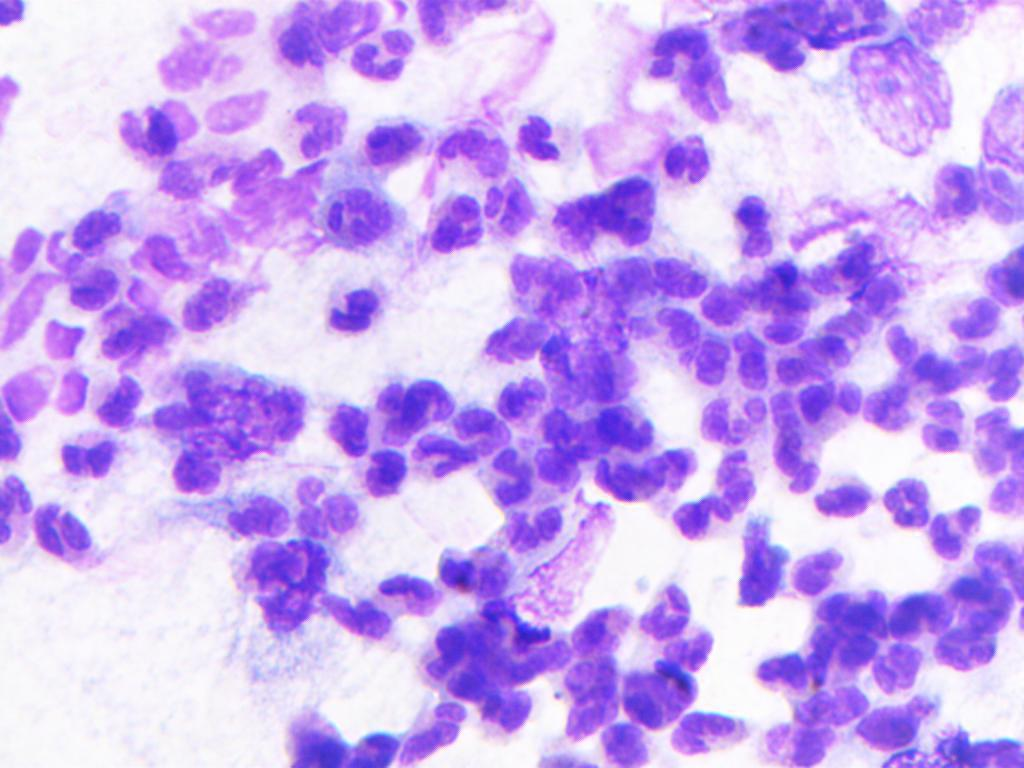artifact: (842, 33, 961, 160), (211, 152, 329, 258), (153, 8, 252, 99)
goblet_cell: (633, 22, 741, 133)
neutrophil: (152, 362, 308, 498), (414, 614, 552, 732), (864, 331, 1024, 426), (712, 0, 891, 76), (765, 378, 871, 493), (924, 566, 1016, 688), (653, 299, 770, 393), (233, 534, 330, 643), (1, 322, 99, 427), (536, 401, 652, 488), (804, 574, 886, 693), (952, 397, 1024, 532), (756, 686, 871, 768), (802, 234, 903, 327), (537, 322, 633, 419), (767, 306, 876, 391), (543, 172, 663, 249), (700, 258, 811, 336), (274, 700, 400, 768), (116, 214, 223, 294), (602, 241, 718, 314), (578, 443, 702, 509), (282, 0, 388, 74), (871, 717, 1024, 768), (406, 399, 500, 481), (105, 93, 203, 170), (382, 691, 480, 768), (162, 489, 286, 549), (423, 533, 520, 607), (0, 212, 54, 344), (366, 369, 449, 454), (335, 27, 439, 94), (172, 274, 278, 339), (903, 158, 989, 237), (427, 118, 517, 192), (318, 173, 400, 252), (409, 0, 529, 53), (492, 100, 579, 173), (96, 294, 170, 379), (730, 509, 787, 619), (616, 659, 704, 730), (193, 78, 281, 149), (141, 147, 220, 226), (64, 188, 148, 262), (283, 471, 369, 543), (27, 489, 99, 574), (478, 496, 572, 561), (501, 251, 587, 321), (558, 657, 622, 750), (468, 173, 548, 243), (371, 557, 452, 626), (628, 574, 702, 646), (327, 268, 395, 344), (802, 461, 880, 527), (701, 383, 772, 454), (475, 440, 546, 509), (933, 283, 1009, 347), (478, 311, 559, 371), (560, 598, 631, 666), (862, 637, 937, 699), (662, 489, 740, 547), (924, 496, 991, 563), (45, 426, 121, 483), (785, 529, 848, 596), (881, 467, 939, 539), (355, 110, 423, 171), (66, 257, 126, 326), (891, 581, 954, 646), (725, 184, 782, 255), (746, 644, 818, 699), (318, 395, 378, 460), (662, 126, 720, 193), (429, 189, 487, 256), (712, 452, 768, 521), (283, 99, 349, 154), (916, 393, 972, 457), (663, 708, 746, 751), (0, 470, 37, 566), (491, 376, 556, 430), (351, 444, 410, 502), (594, 721, 654, 768), (1, 392, 31, 470)
